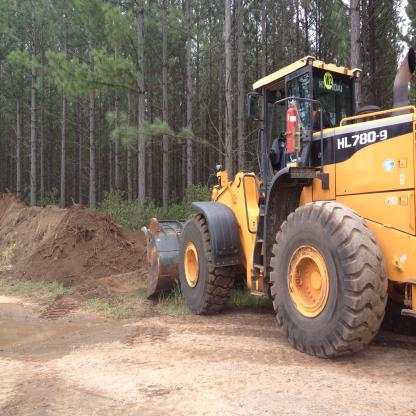bull_dozer/loader/grader: (142, 41, 416, 365)
